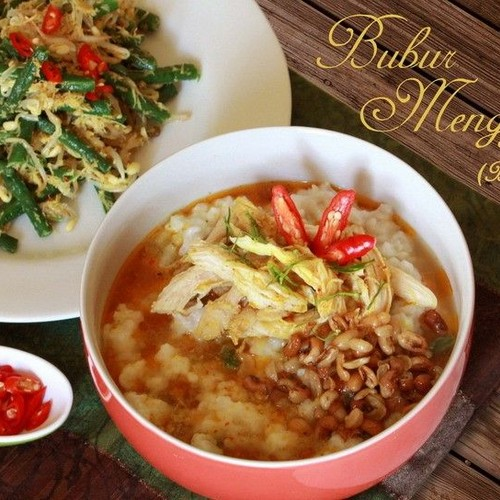bubur mengguh: (131, 180, 430, 444)
